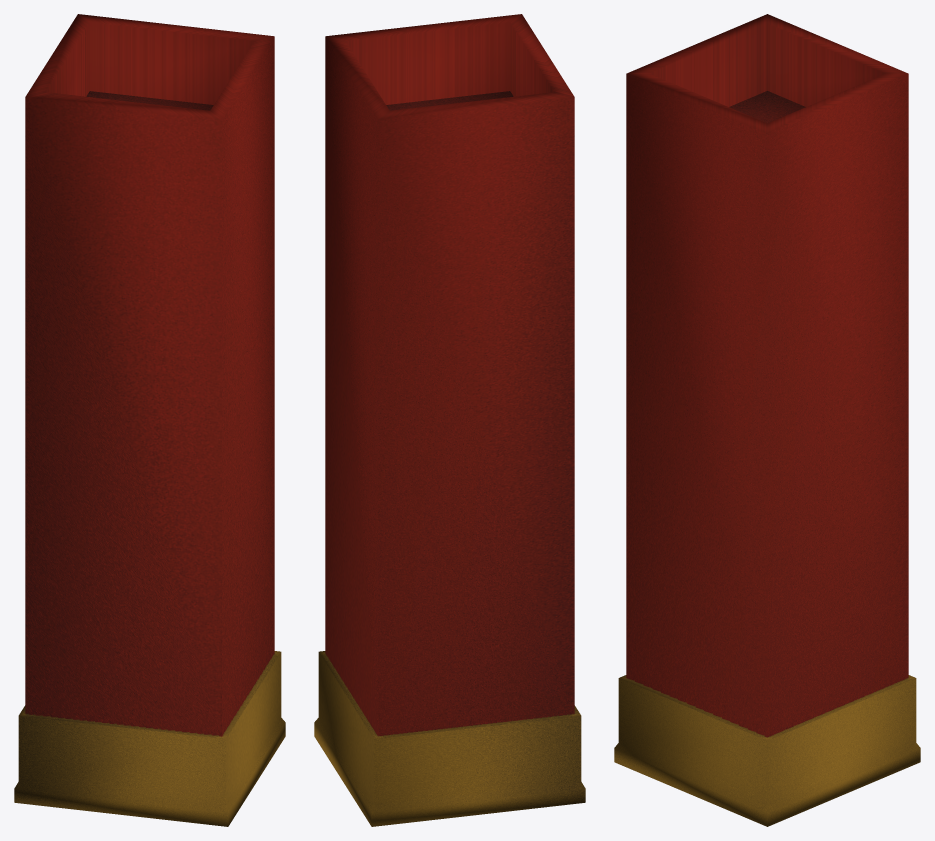
The model's file is ammo_shotgun.fbx.
3 renders of one model, left to right at view 1: azimuth 30°, elevation 25°; view 2: azimuth 150°, elevation 25°; view 3: azimuth 270°, elevation 25°, orthographic. The views are drawn at different scales.
Parts seen in each view (by area): view 1: Cube.001; view 2: Cube.001; view 3: Cube.001.
Boxes of the visible parts, x1,y1,x2,y2 form: Cube.001: [14, 14, 285, 826]; Cube.001: [314, 14, 585, 826]; Cube.001: [614, 14, 920, 826].
Bounding box in the file's own units: 70.19 × 174 × 70.19.
1 material, 1 textured.
